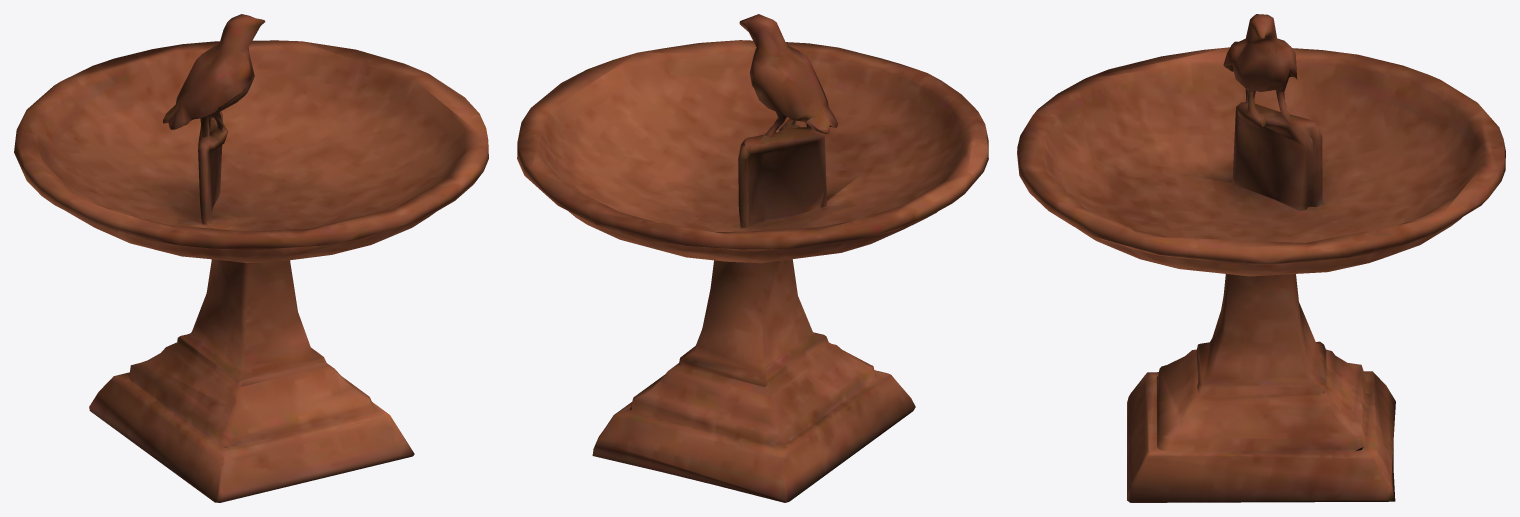
Rendered from sturdy-terracotta-birdbath-v001.glb.
3 views of the same model, side by side, from view 1: azimuth 30°, elevation 25°; view 2: azimuth 150°, elevation 25°; view 3: azimuth 270°, elevation 25° (orthographic). The views are drawn at different scales.
Visible parts, largest first — view 1: sturdy-terracotta-birdbath; view 2: sturdy-terracotta-birdbath; view 3: sturdy-terracotta-birdbath.
Boxes of the visible parts, x1,y1,x2,y2 form: sturdy-terracotta-birdbath: (14,14,488,502); sturdy-terracotta-birdbath: (517,14,988,502); sturdy-terracotta-birdbath: (1017,14,1505,502).
Size of the model in its own units: 0.6488 by 0.6367 by 0.6469.
1 material, 1 textured.
